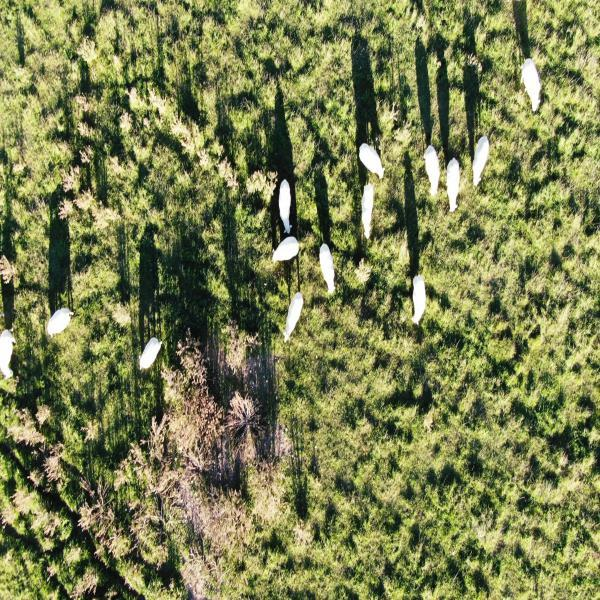sheep: (410, 133, 443, 198), (515, 51, 545, 121), (272, 171, 301, 242), (470, 134, 500, 198), (355, 176, 380, 247), (357, 132, 386, 193), (444, 147, 466, 226), (317, 230, 340, 300), (280, 282, 306, 342), (138, 332, 169, 382), (269, 222, 300, 272), (408, 257, 430, 325), (45, 307, 80, 349), (0, 333, 19, 387)
